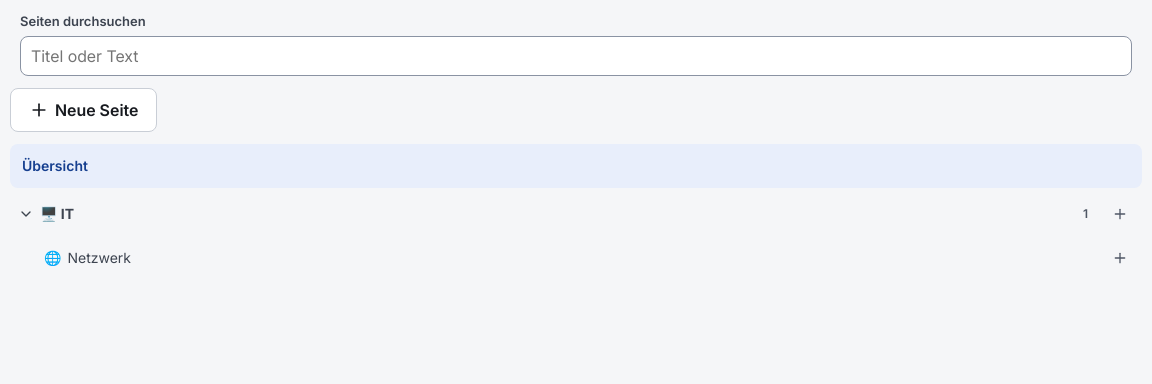
Doku: Seiten über das Plus im Baum › legt oben im Arbeitsbereich an und bricht mit Esc ab
Click the button named "Neue Seite in IT anlegen" at point(1120, 214), box [1098,192,1142,236]
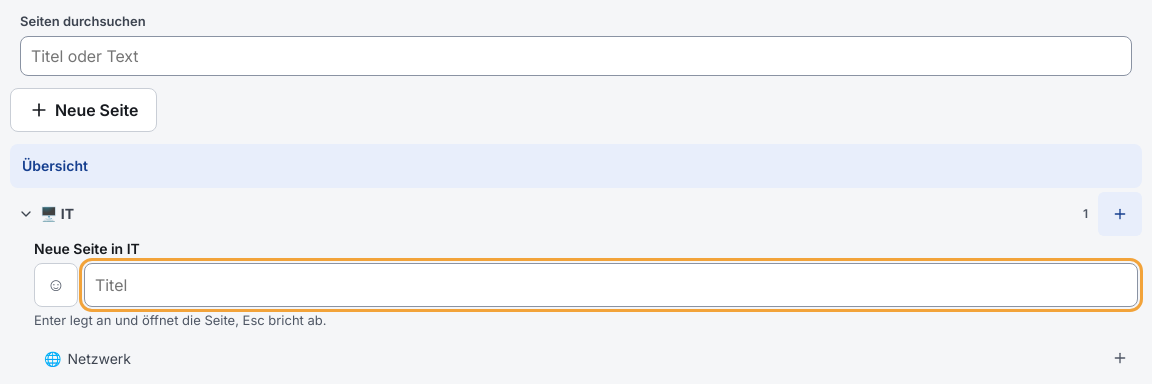
Press Escape in the field labelled "Neue Seite in IT", box [84,262,1138,306]
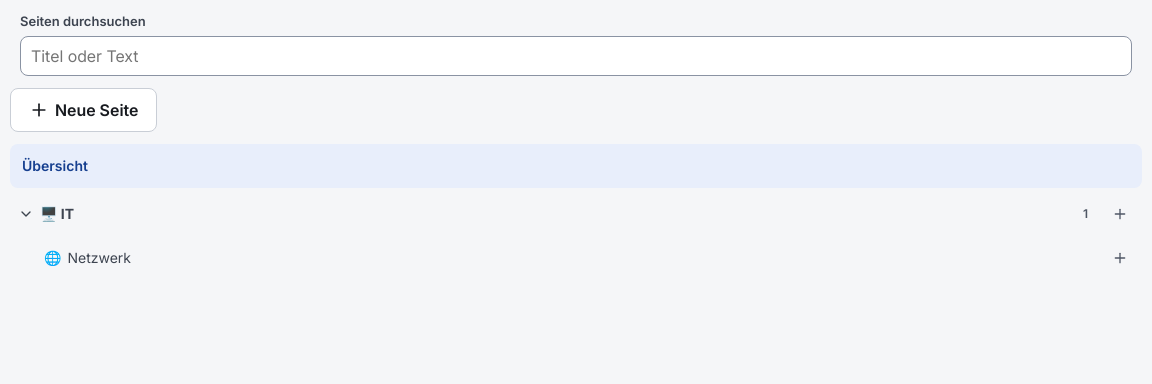
Expected: the label "Neue Seite in IT" is gone
